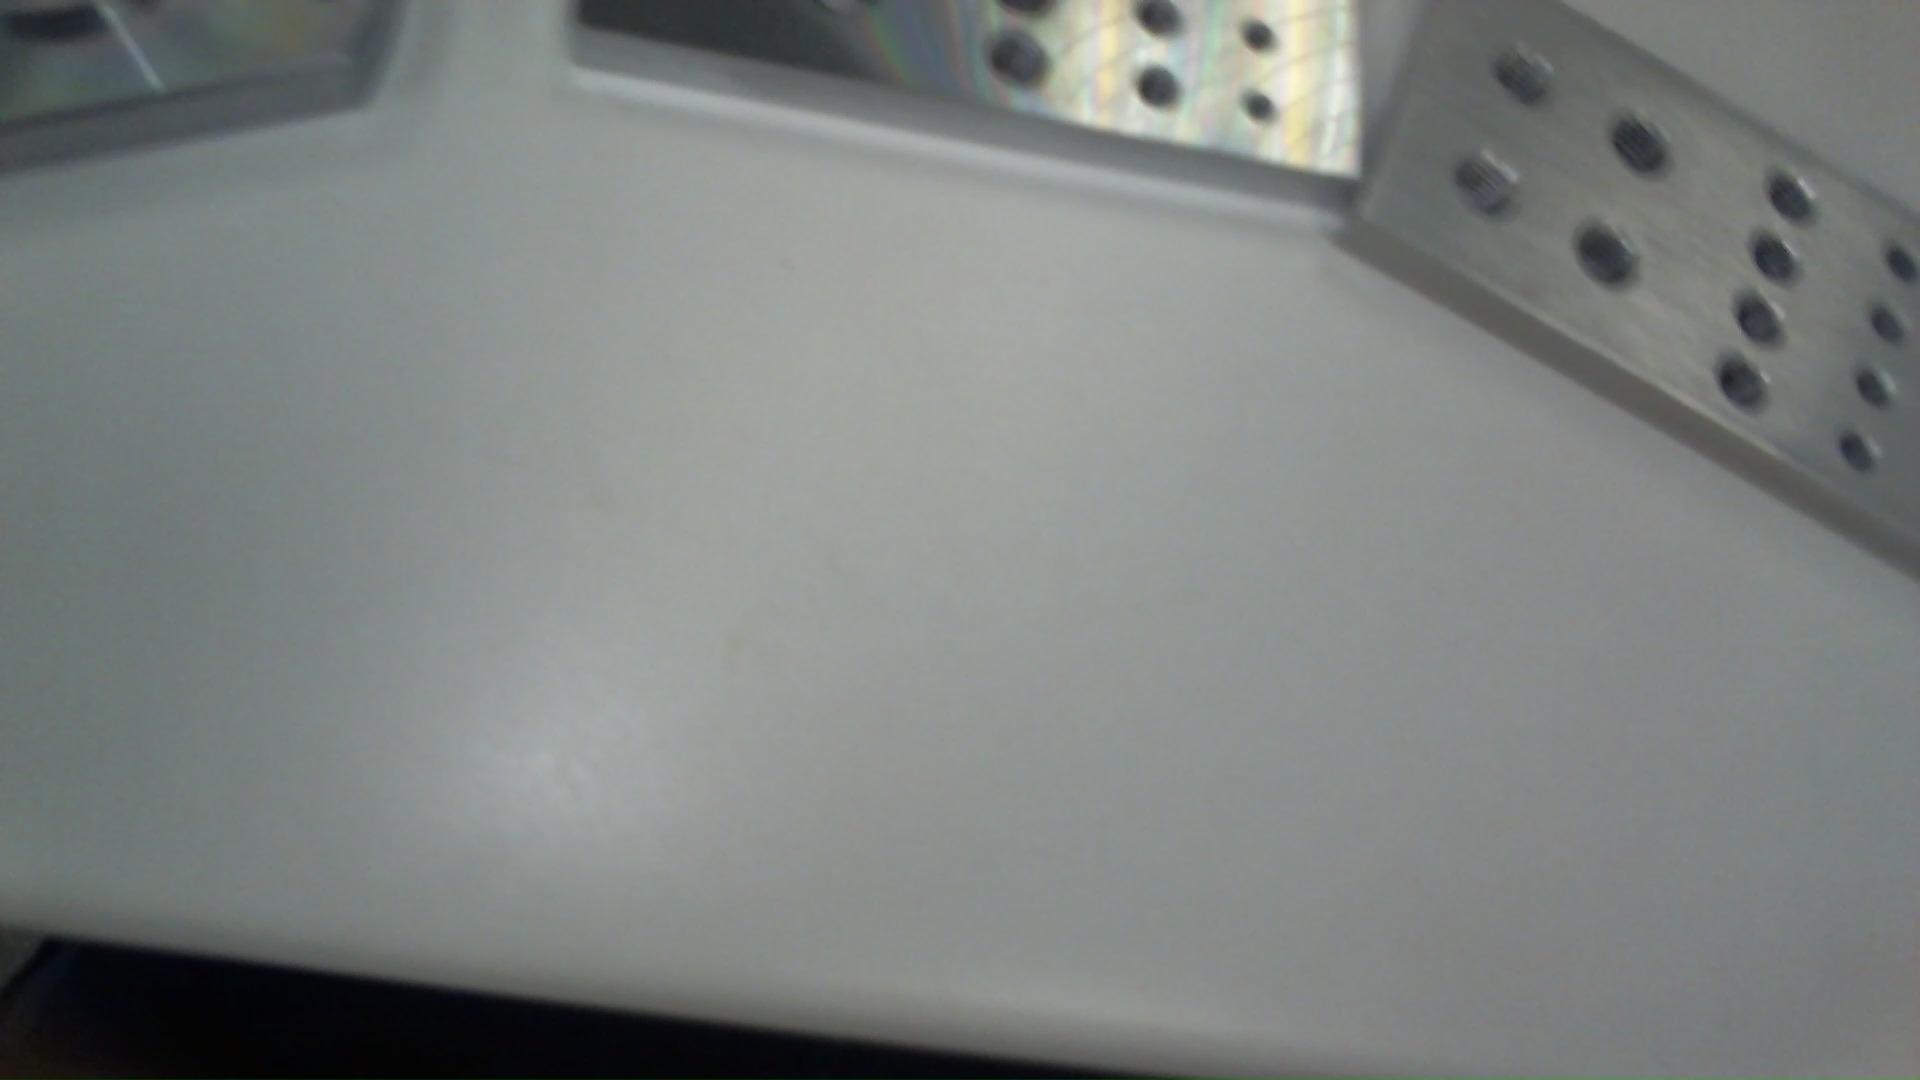hole: (1597, 95, 1687, 193), (1445, 141, 1528, 233), (1560, 218, 1647, 295), (978, 29, 1065, 99), (1481, 44, 1560, 107), (1754, 156, 1825, 223), (1734, 229, 1815, 287), (1716, 353, 1783, 415), (1131, 54, 1187, 119), (1730, 294, 1796, 347), (1867, 297, 1912, 356), (1834, 430, 1890, 475), (1127, 0, 1192, 37), (1237, 13, 1282, 66), (1854, 368, 1902, 415), (1241, 84, 1287, 133), (1880, 239, 1920, 286)
